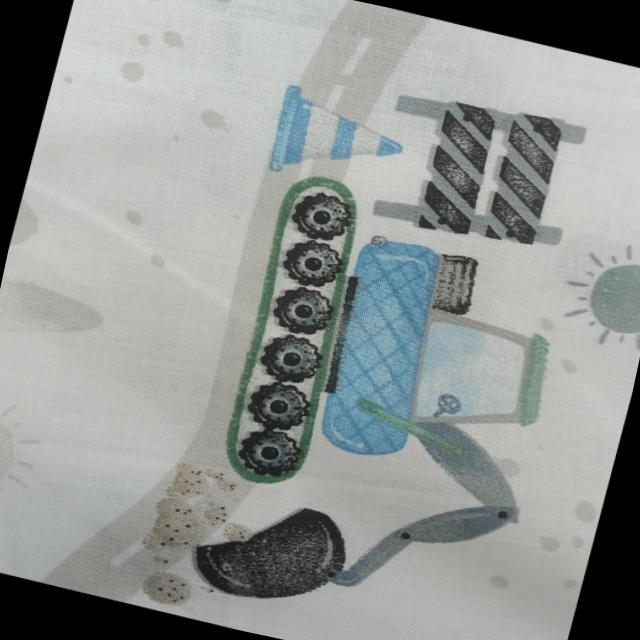color issues: (158, 28, 617, 640), (0, 0, 235, 526)
